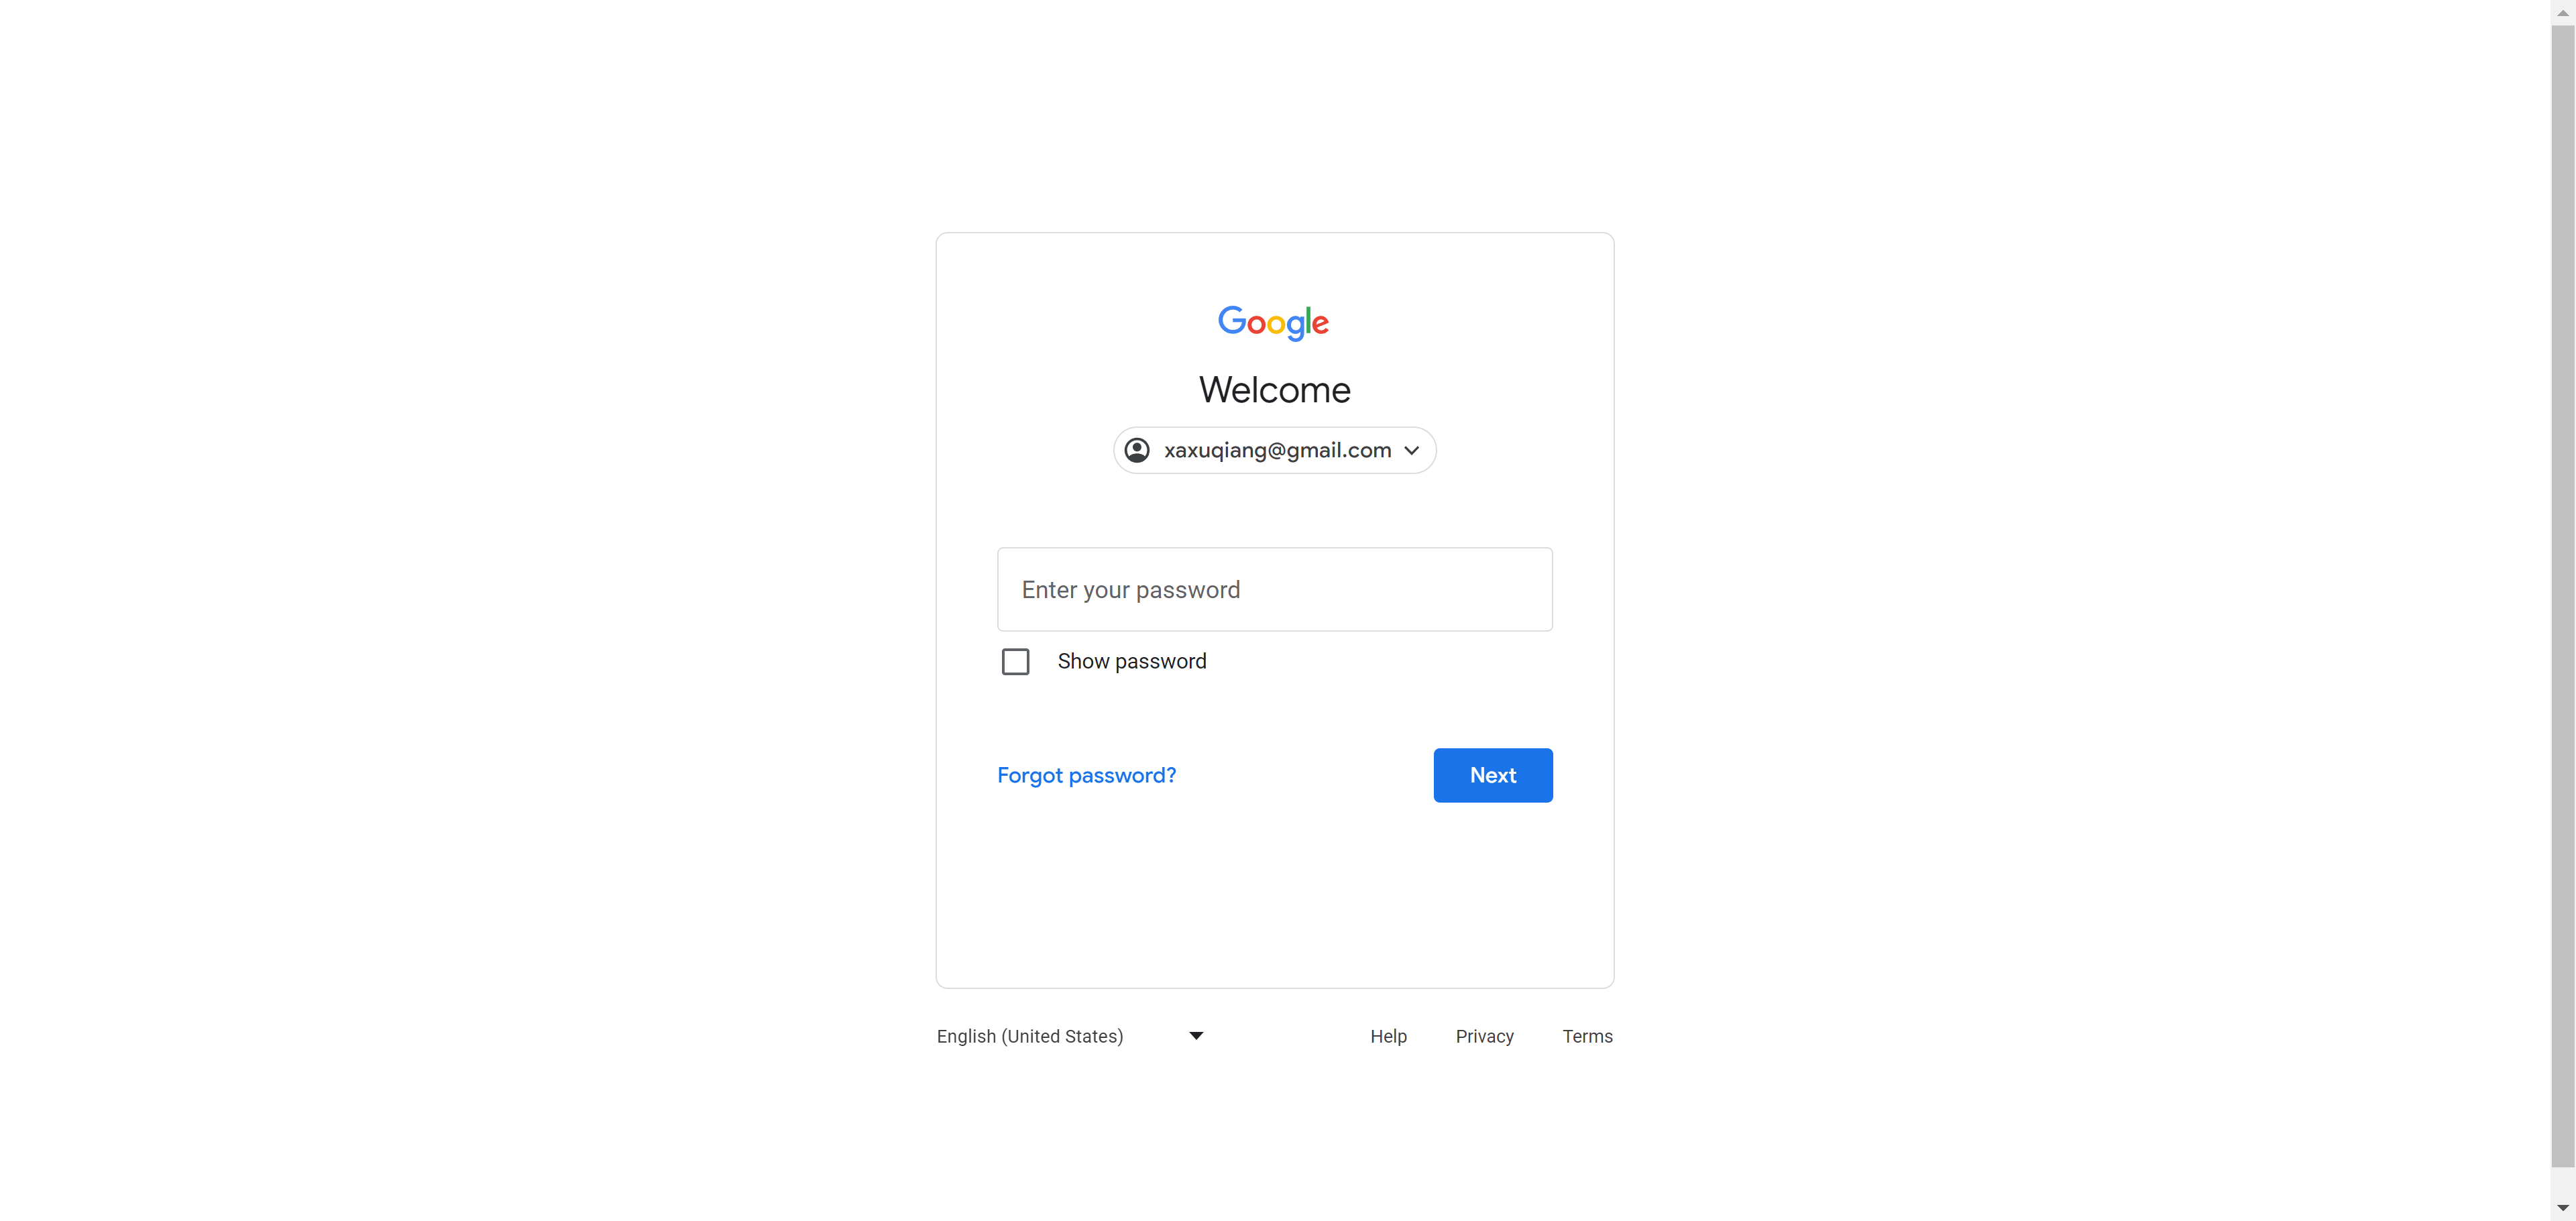login_button: (1433, 749, 1554, 802)
login_form: (981, 536, 1564, 815)
